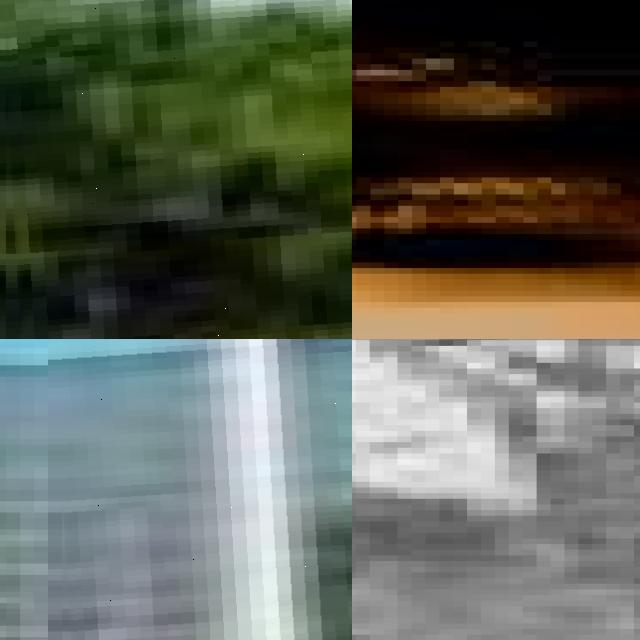street light: (0, 0, 352, 339), (48, 339, 352, 640)
